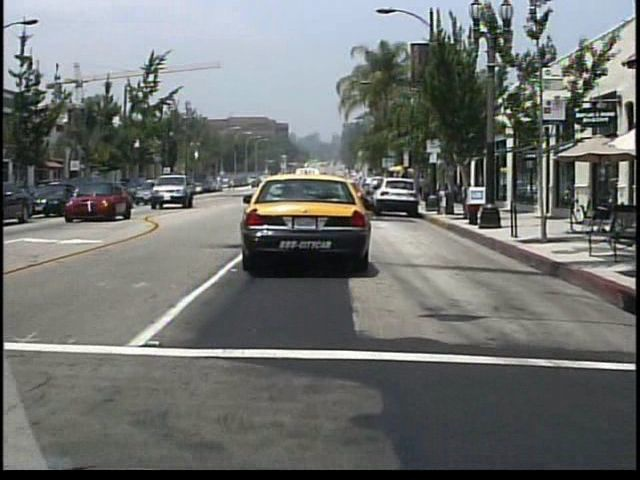person: (417, 174, 428, 200)
